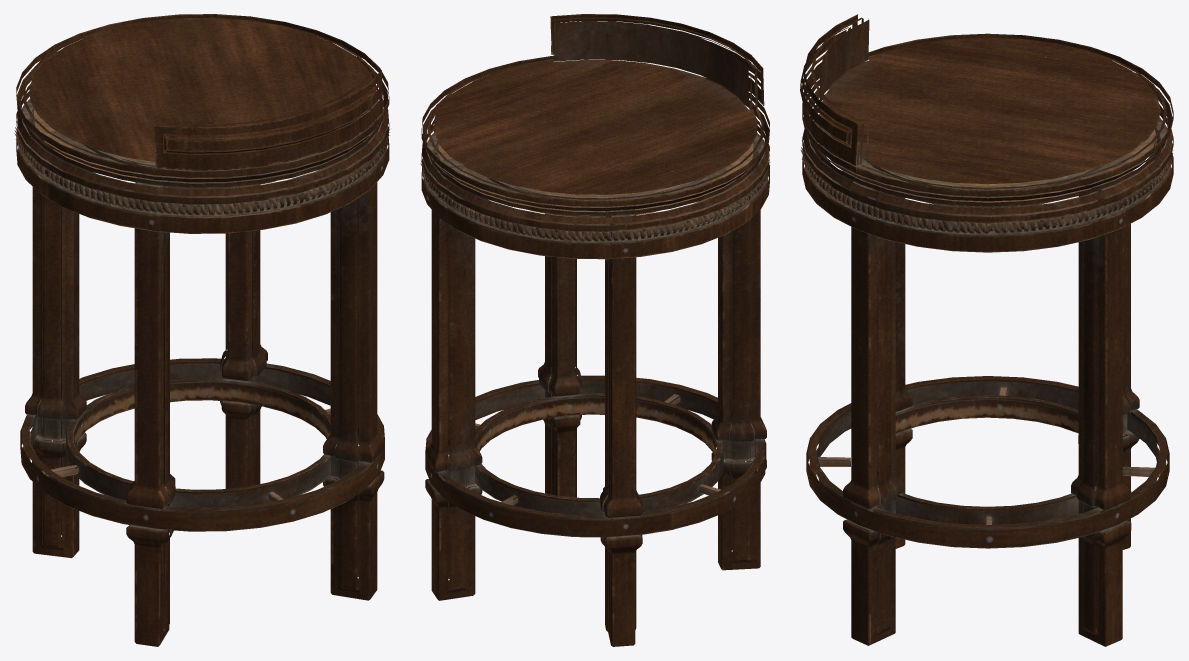
File: bar_stool.glb
3 renders of one model, left to right at view 1: azimuth 30°, elevation 25°; view 2: azimuth 150°, elevation 25°; view 3: azimuth 270°, elevation 25°, orthographic. The views are drawn at different scales.
Parts seen in each view (by area): view 1: bar_chair_round_01; view 2: bar_chair_round_01; view 3: bar_chair_round_01.
Part boxes in pixels (x1,y1,x2,y2): bar_chair_round_01: (14,14,389,646); bar_chair_round_01: (420,14,770,646); bar_chair_round_01: (800,14,1173,646).
Size of the model in its own units: 0.5332 by 0.8226 by 0.5352.
Materials: 1 (1 with a texture image).
